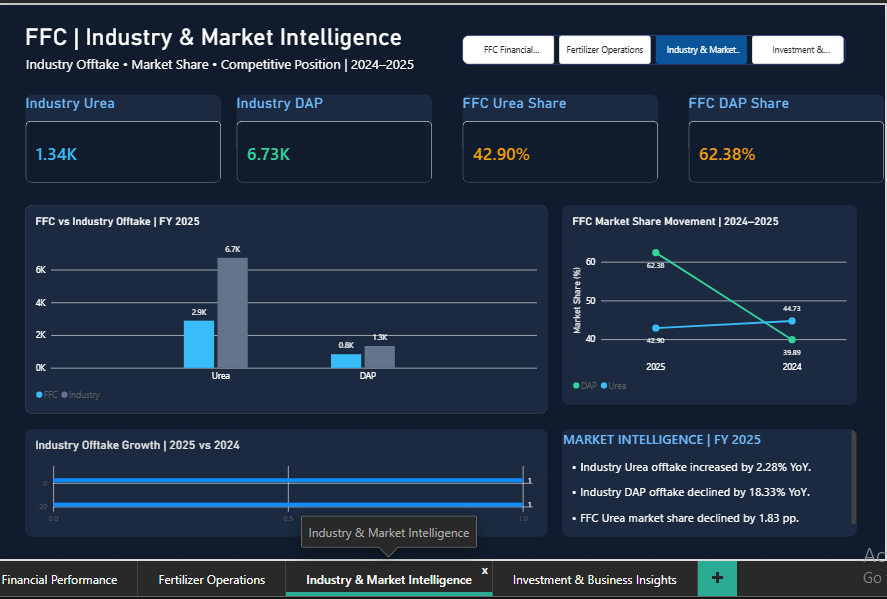

Layout of this report page (visuals, bound fields, positions):
{"tool":"powerbi","page":{"name":"Industry & Market Intelligence","canvas":[1440,900],"ordinal":2},"visuals":[{"type":"textbox","title":"FFC | Industry & Market Intelligence","box":[40,30,1000,48],"z":0},{"type":"textbox","box":[42,82,1050,30],"z":1},{"type":"cardVisual","title":"Industry Urea","fields":{"Data":["public vw_ffc_financial_performance.Industry DAP Offtake (KT)"]},"box":[40,145,320,145],"z":2},{"type":"cardVisual","title":"Industry DAP","fields":{"Data":["public vw_ffc_financial_performance.Industry Urea Offtake (KT)"]},"box":[384,144,320,145],"z":3},{"type":"cardVisual","title":"FFC Urea Share","fields":{"Data":["public vw_ffc_financial_performance.FFC Urea Market Share (%)"]},"box":[752,144,320,145],"z":4},{"type":"cardVisual","title":"FFC DAP Share","fields":{"Data":["public vw_ffc_financial_performance.FFC DAP Market Share (%)"]},"box":[1120,144,320,145],"z":5},{"type":"clusteredColumnChart","title":"FFC vs Industry Offtake | FY 2025","fields":{"Category":["public vw_ffc_operations_analytics.product"],"Series":["public vw_ffc_operations_analytics.entity"],"Y":["Sum(public vw_ffc_operations_analytics.value)"]},"box":[40,325,850,340],"z":6},{"type":"lineChart","title":"FFC Market Share Movement | 2024–2025","fields":{"Category":["public vw_ffc_market_share.year"],"Series":["public vw_ffc_market_share.product"],"Y":["Avg(public vw_ffc_market_share.market_share_pct)"]},"box":[915,325,480,325],"z":7},{"type":"clusteredBarChart","title":"Industry Offtake Growth | 2025 vs 2024","fields":{"Category":["public vw_ffc_operations_analytics.yoy_change_pct"],"Y":["CountNonNull(public vw_ffc_operations_analytics.product)"]},"box":[40,690,850,175],"z":8},{"type":"textbox","box":[915,690,480,175],"z":9},{"type":"pageNavigator","box":[752,48,624,48],"z":10}]}

Visuals, with their boxes on the page's 1440x900 design canvas (x1, y1, x2, y2). These are canvas units, not pixel positions in the 887x599 screenshot, which may show the page scaled, cropped or inside an application window:
"FFC | Industry & Market Intelligence" textbox: x1=40, y1=30, x2=1040, y2=78
textbox: x1=42, y1=82, x2=1092, y2=112
"Industry Urea" cardVisual: x1=40, y1=145, x2=360, y2=290
"Industry DAP" cardVisual: x1=384, y1=144, x2=704, y2=289
"FFC Urea Share" cardVisual: x1=752, y1=144, x2=1072, y2=289
"FFC DAP Share" cardVisual: x1=1120, y1=144, x2=1440, y2=289
"FFC vs Industry Offtake | FY 2025" clusteredColumnChart: x1=40, y1=325, x2=890, y2=665
"FFC Market Share Movement | 2024–2025" lineChart: x1=915, y1=325, x2=1395, y2=650
"Industry Offtake Growth | 2025 vs 2024" clusteredBarChart: x1=40, y1=690, x2=890, y2=865
textbox: x1=915, y1=690, x2=1395, y2=865
pageNavigator: x1=752, y1=48, x2=1376, y2=96
